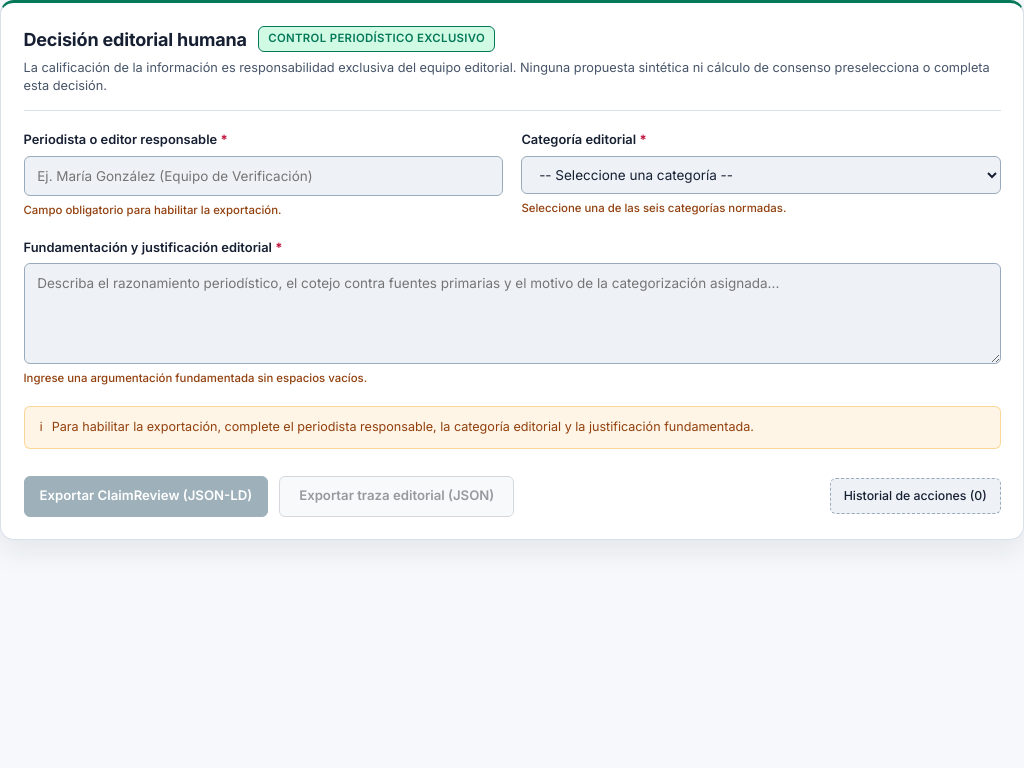
Test case: EditorialDecision Component Unit Tests › Client-side export gating › enables export buttons when author, category, and non-whitespace justification are present
Type "Periodista Responsable" into the field with test id "editorial-author-input".
click(263, 176); type("Periodista Responsable")  # box [24, 156, 503, 196]
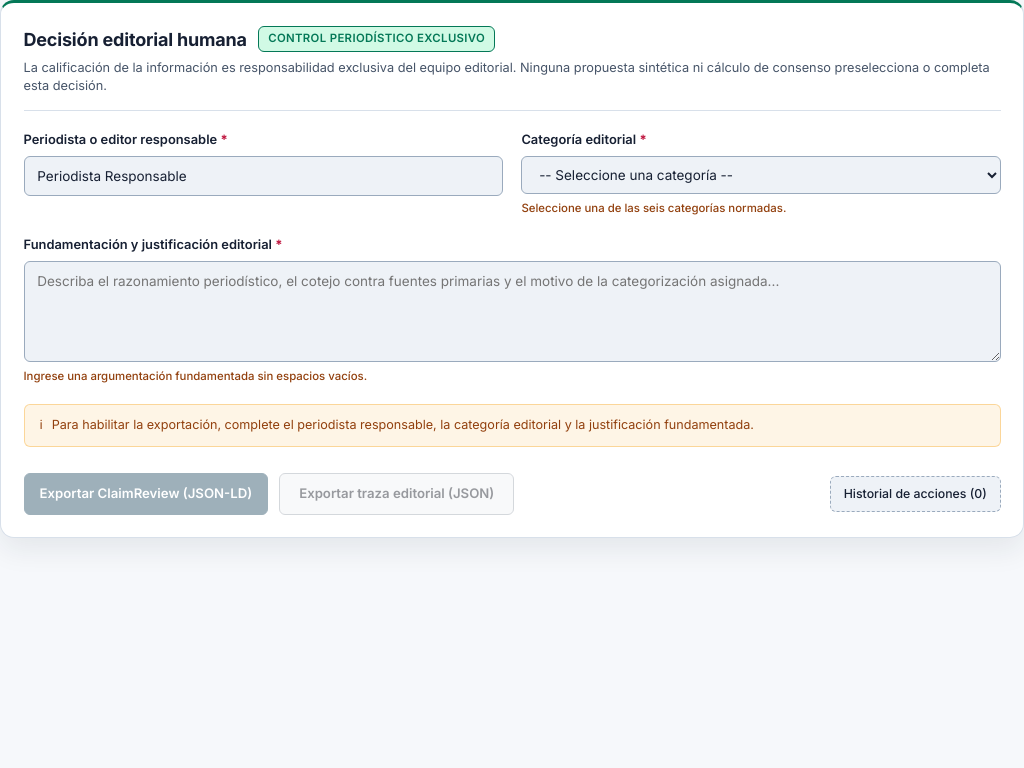
Select "Impreciso" in the dropdown with test id "editorial-category-select" at (761, 175), box [521, 156, 1000, 194]
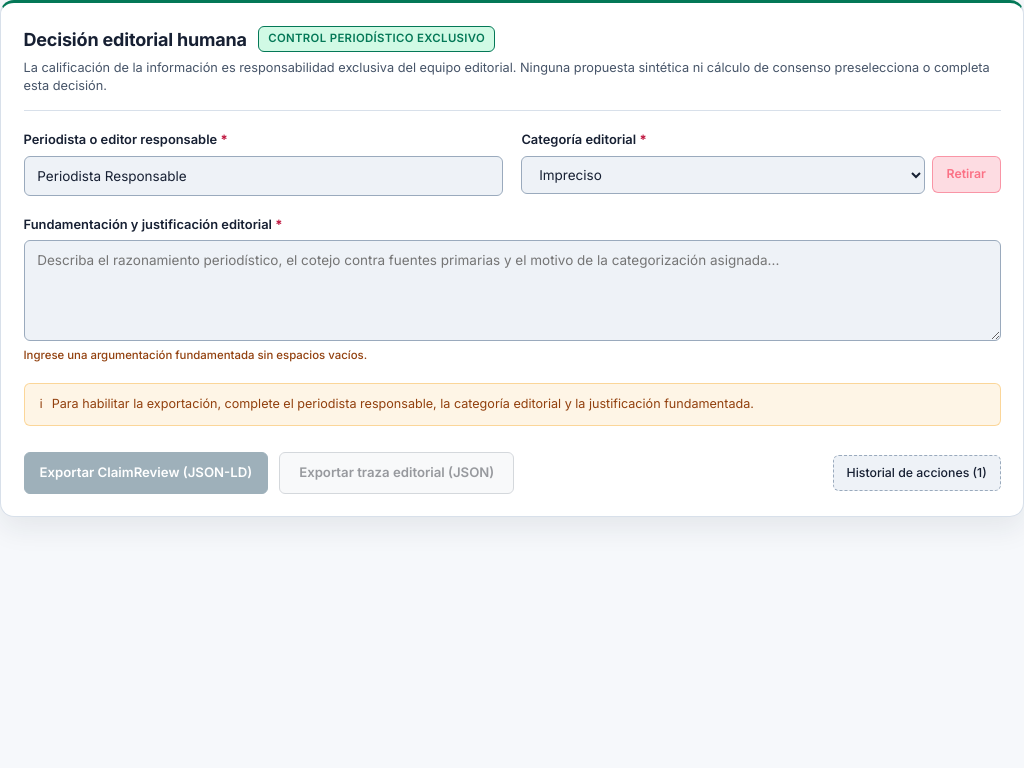
Replace the text in the text box with test id "editorial-justification-input" with "La afirmación mezcla datos preliminares no consolidados." at (512, 290), box [24, 240, 1000, 341]
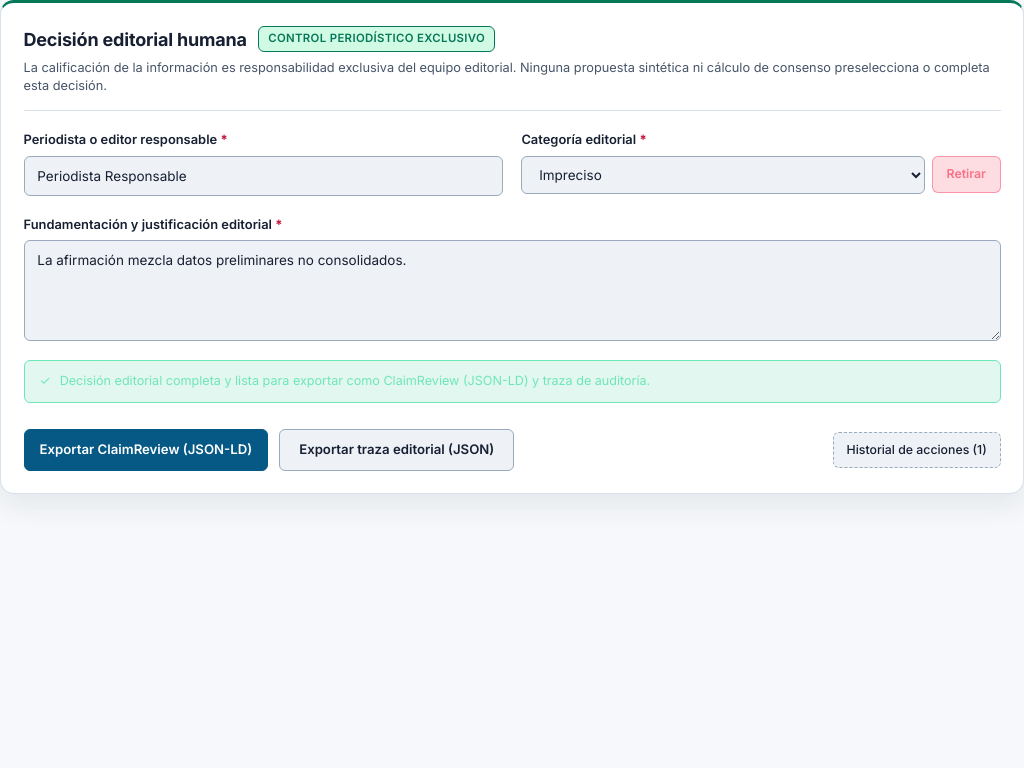
Expected: the button with test id "btn-export-claimreview" is enabled, [24, 429, 268, 471]
Expected: the button with test id "btn-export-trace" is enabled, [279, 429, 514, 471]
Expected: the message with test id "editorial-ready-msg" is shown, [24, 360, 1000, 403]
